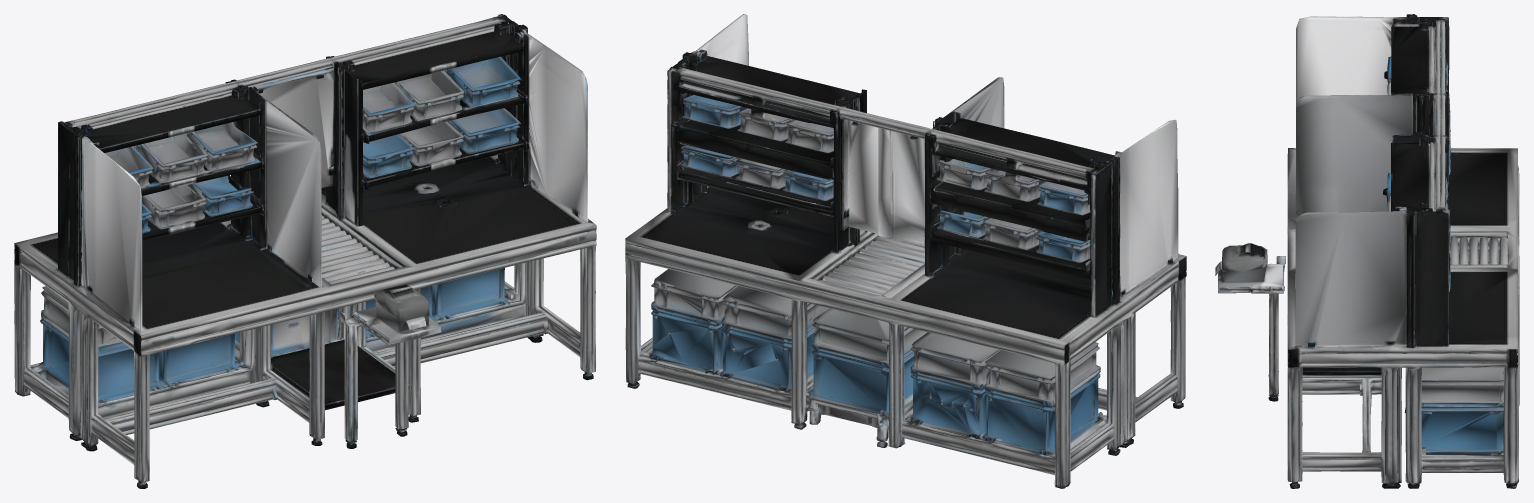
Rendered from crate-intake.glb.
The picture shows the model from 3 angles, left to right: view 1: azimuth 30°, elevation 25°; view 2: azimuth 150°, elevation 25°; view 3: azimuth 270°, elevation 25°; orthographic projection. The views are drawn at different scales.
Parts seen in each view (by area): view 1: mesh_node; view 2: mesh_node; view 3: mesh_node.
Boxes of the visible parts, x1,y1,x2,y2 form: mesh_node: (14,14,596,488); mesh_node: (625,14,1186,488); mesh_node: (1215,14,1519,488).
Size of the model in its own units: 1.91 by 1.22 by 1.21.
1 material, 1 textured.
